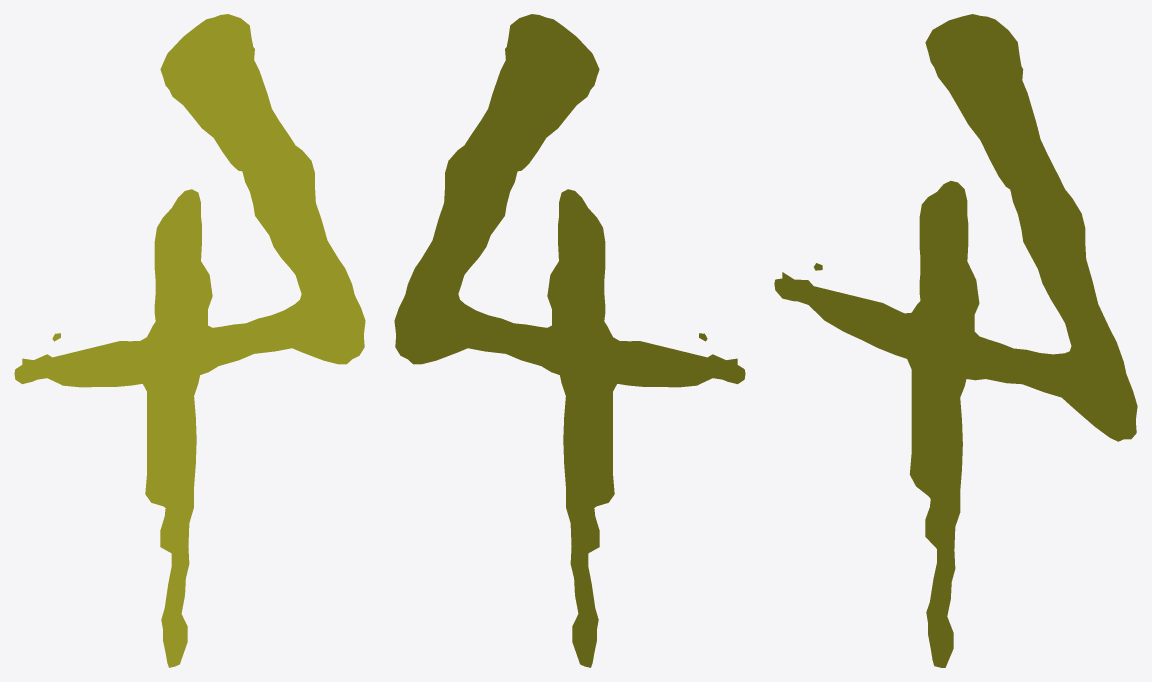
File: four.obj
3 views of the same model, side by side, from view 1: azimuth 30°, elevation 25°; view 2: azimuth 150°, elevation 25°; view 3: azimuth 330°, elevation 25° (orthographic). The views are drawn at different scales.
Parts seen in each view (by area): view 1: four.001; view 2: four.001; view 3: four.001.
Part boxes in pixels (x1,y1,x2,y2): four.001: (14,14,365,667); four.001: (394,14,745,667); four.001: (774,14,1137,667).
Bounding box in the file's own units: 0.3441 × 0.5997 × 0.
